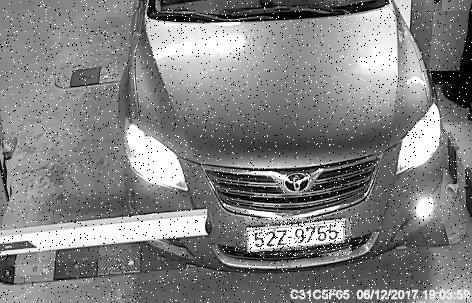License-plate: (246, 220, 354, 258)
